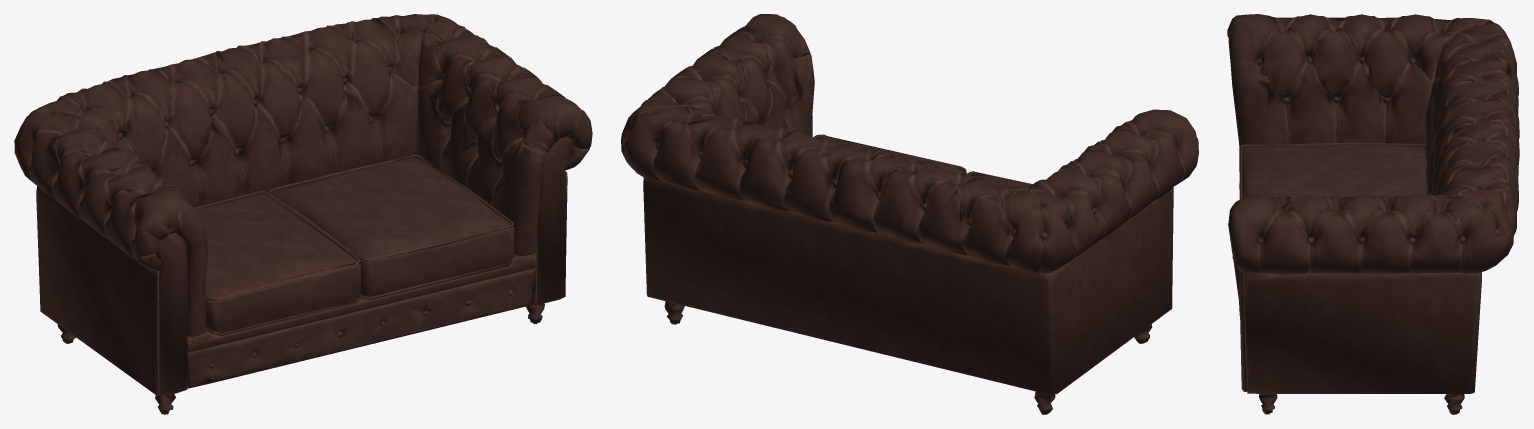
The model's file is sofa.glb.
The picture shows the model from 3 angles, left to right: view 1: azimuth 30°, elevation 25°; view 2: azimuth 150°, elevation 25°; view 3: azimuth 270°, elevation 25°; orthographic projection. The views are drawn at different scales.
Visible parts, largest first — view 1: sofa_geo, legs_geo4; view 2: sofa_geo, legs_geo4; view 3: sofa_geo, legs_geo4.
Part boxes in pixels (x1,y1,x2,y2): sofa_geo: (14,14,592,395); legs_geo4: (57,294,544,414); sofa_geo: (621,14,1198,394); legs_geo4: (664,301,1152,414); sofa_geo: (1227,14,1519,393); legs_geo4: (1259,394,1464,414).
Bounding box in the file's own units: 2.12 × 1.03 × 1.23.
2 materials, 2 textured.
